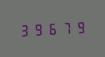nine: (74, 18, 87, 35), (32, 21, 45, 37)
seven: (60, 19, 73, 35)
six: (46, 20, 59, 36)
three: (18, 21, 31, 38)
